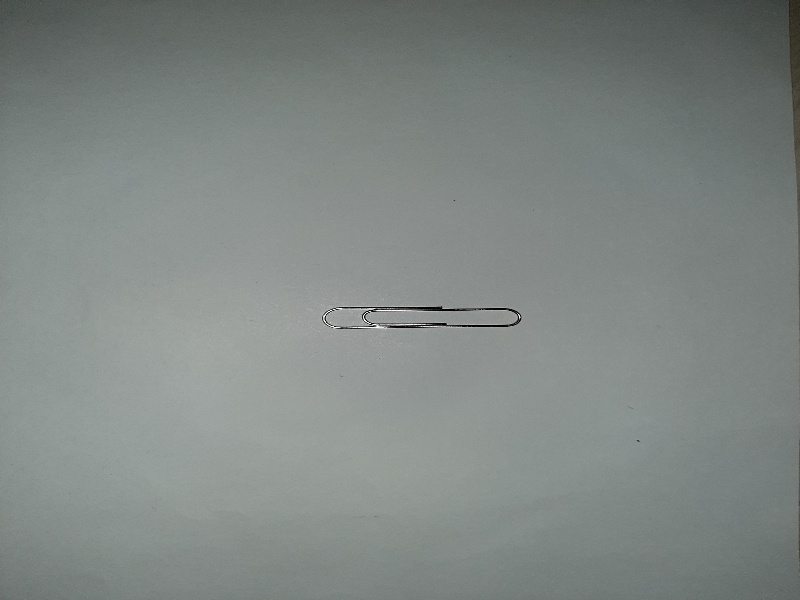Big Jumpclip: (316, 287, 527, 341)
